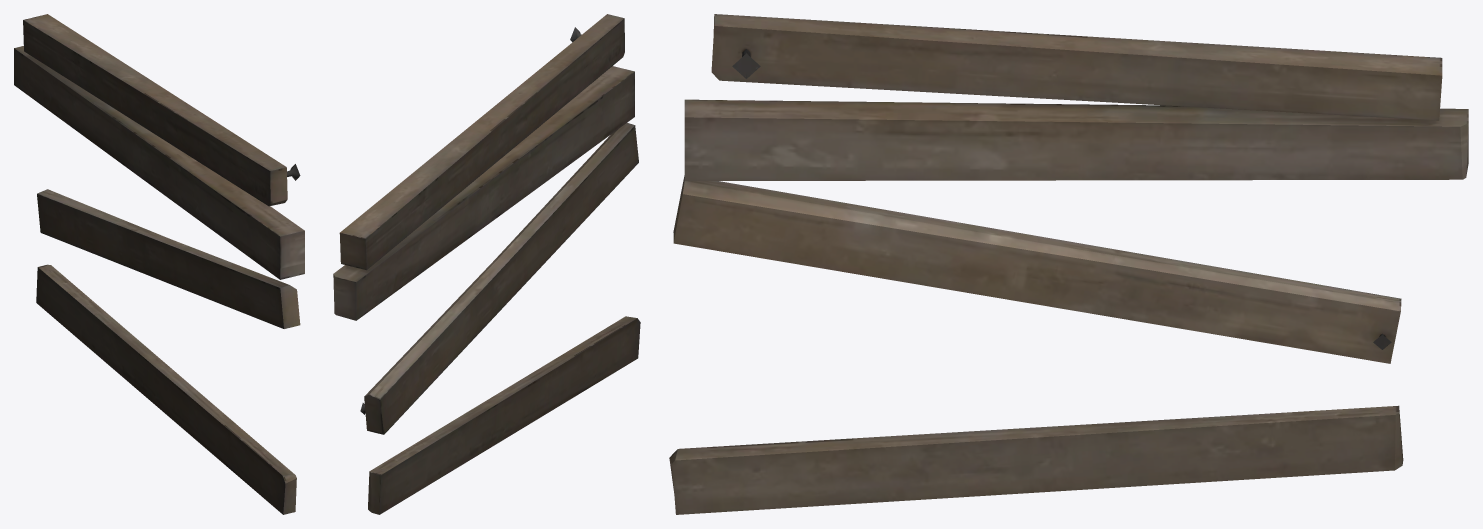
3 renders of one model, left to right at view 1: azimuth 30°, elevation 25°; view 2: azimuth 150°, elevation 25°; view 3: azimuth 270°, elevation 25°, orthographic. The views are drawn at different scales.
Visible parts, largest first — view 1: body0_model0_lod0_mesh0; view 2: body0_model0_lod0_mesh0; view 3: body0_model0_lod0_mesh0.
Boxes of the visible parts, <box> form: body0_model0_lod0_mesh0: <box>14,14,304,514</box>; body0_model0_lod0_mesh0: <box>333,14,640,514</box>; body0_model0_lod0_mesh0: <box>669,14,1468,514</box>.
Size of the model in its own units: 7.44 by 65.52 by 96.44.
Materials: 1 (1 with a texture image).
